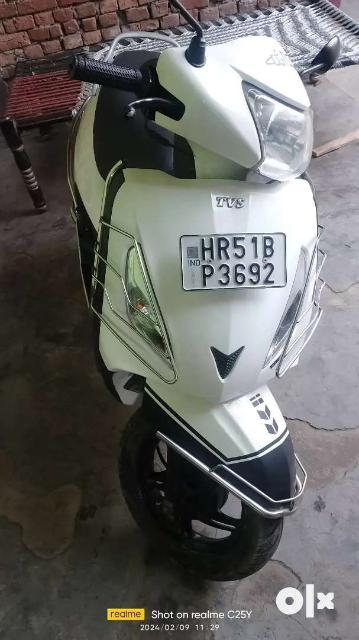Indian_Number_Plate: (182, 233, 288, 290)
